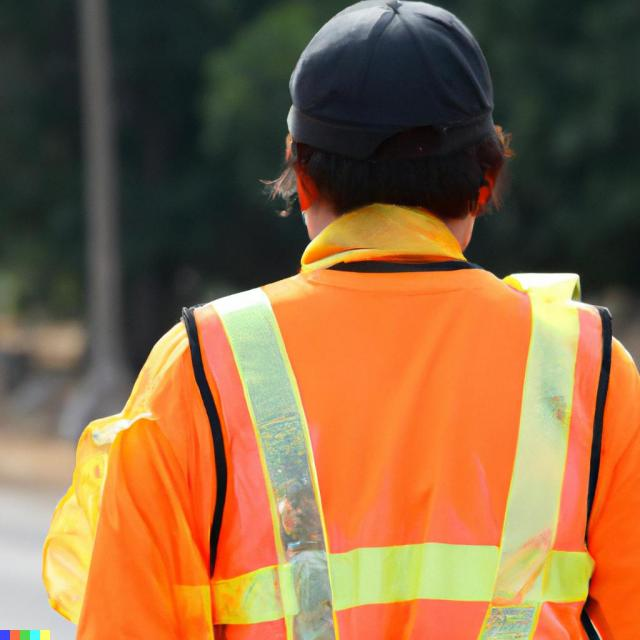Reflective-Jacket: (17, 242, 640, 639)
